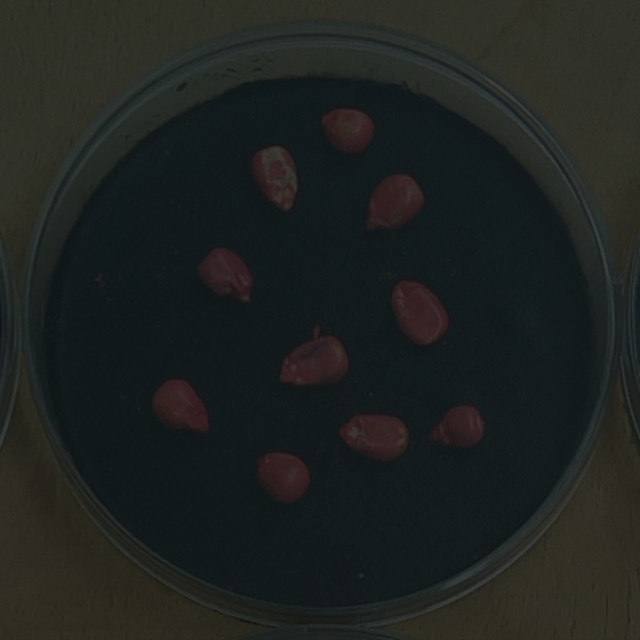Zea mays: (383, 274, 454, 353), (271, 327, 354, 394), (330, 404, 415, 469), (356, 167, 429, 239), (191, 239, 260, 310), (146, 371, 215, 441), (244, 139, 304, 218), (248, 445, 317, 511), (421, 397, 490, 455), (315, 102, 380, 160)
